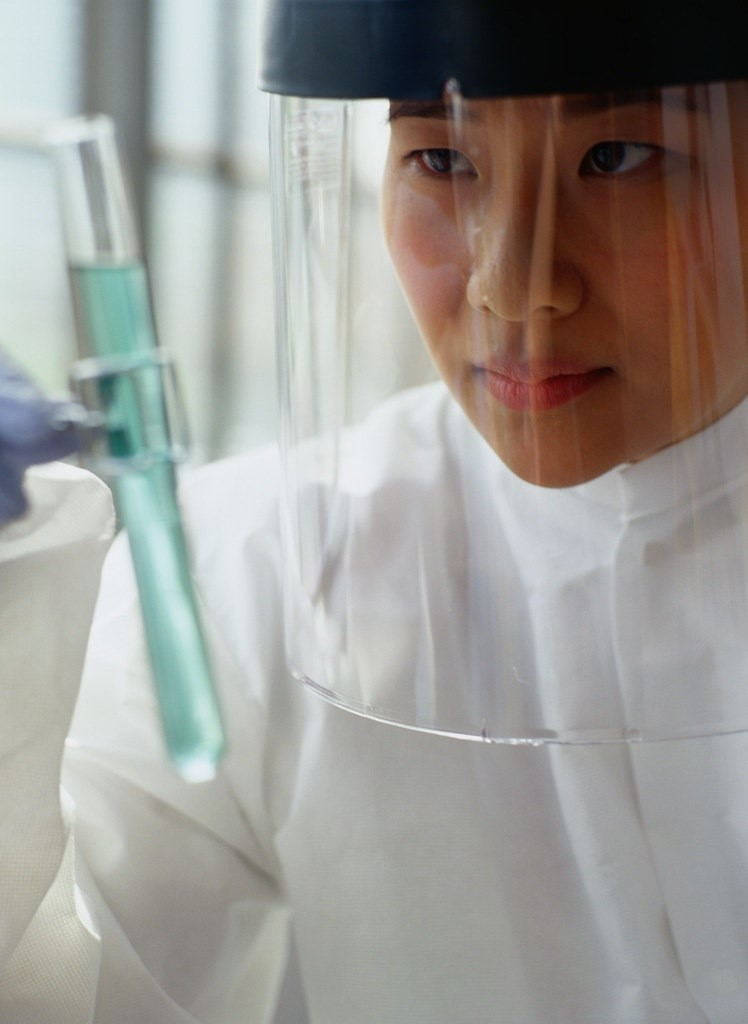face_no_mask: (384, 56, 748, 490)
